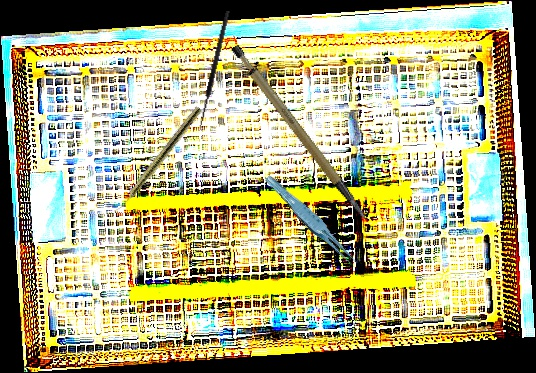Handpiece: (112, 104, 203, 218)
Hook Surgical: (197, 10, 236, 133)
Scalpel Handle: (227, 30, 369, 238)
Tissue Forceps: (263, 168, 361, 276)
